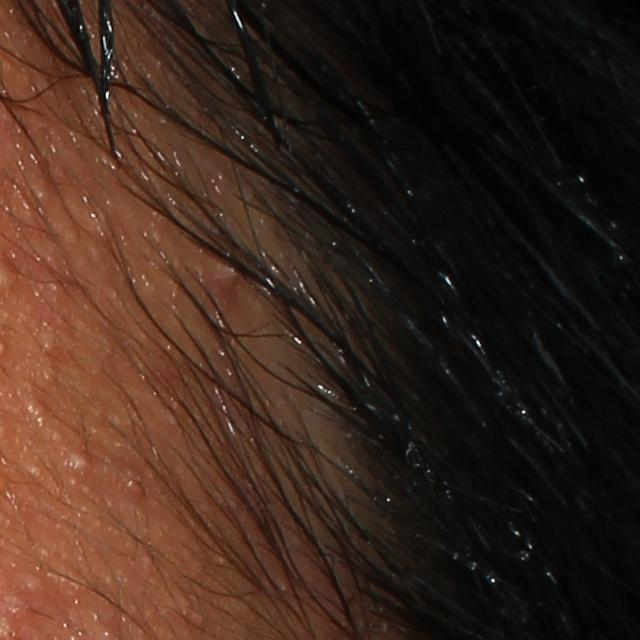comedo: (120, 469, 150, 503), (17, 573, 51, 601), (62, 444, 90, 477), (24, 395, 49, 426)
